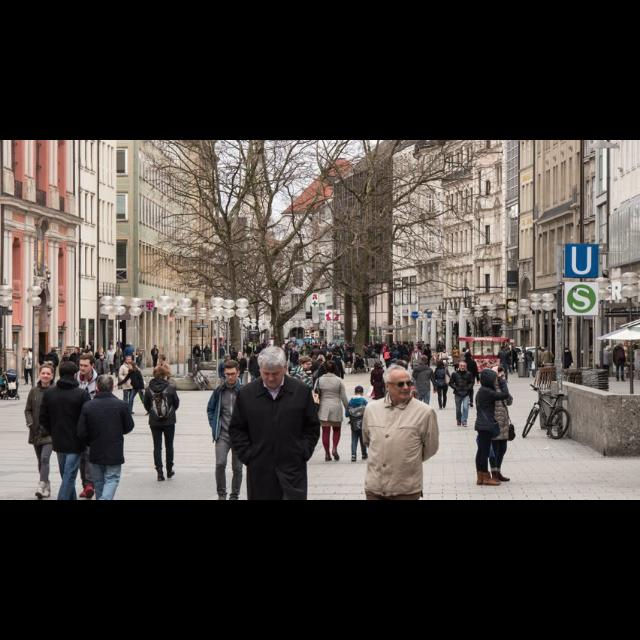head: (258, 347, 288, 391), (383, 366, 412, 402), (95, 376, 115, 396), (223, 364, 240, 386), (490, 367, 508, 387), (60, 362, 78, 382), (38, 366, 56, 384), (80, 356, 96, 376), (484, 372, 498, 390), (299, 356, 313, 372), (154, 366, 168, 382), (217, 344, 226, 368), (326, 362, 338, 376), (355, 387, 365, 398), (458, 362, 468, 372), (465, 352, 473, 362), (421, 356, 429, 366), (129, 362, 137, 372), (159, 354, 167, 364), (126, 358, 134, 367), (438, 361, 446, 369), (374, 362, 381, 370), (225, 355, 232, 363), (606, 345, 612, 353), (100, 353, 106, 361), (254, 351, 260, 359), (74, 348, 82, 354), (616, 344, 622, 350), (502, 346, 508, 352), (486, 348, 492, 354), (230, 348, 236, 354), (238, 352, 244, 358), (98, 348, 104, 354), (546, 346, 550, 352), (512, 346, 518, 350), (454, 346, 458, 352), (51, 350, 57, 354), (28, 348, 32, 354), (314, 346, 320, 350), (348, 354, 352, 360), (566, 348, 570, 352), (538, 348, 542, 352), (463, 349, 467, 353), (197, 344, 201, 348), (292, 349, 296, 353), (154, 346, 158, 350), (126, 344, 130, 348), (110, 346, 114, 350), (427, 346, 431, 350), (415, 350, 419, 354), (394, 348, 398, 352), (255, 343, 258, 347), (520, 352, 522, 356), (306, 348, 310, 350), (440, 341, 442, 345), (386, 344, 388, 348), (206, 346, 208, 348), (264, 342, 266, 344), (378, 342, 380, 344)
person: (64, 354, 108, 500), (143, 364, 181, 484), (474, 369, 511, 487), (312, 361, 350, 464), (486, 365, 516, 483), (344, 386, 374, 464), (289, 356, 315, 444), (113, 361, 153, 417), (449, 360, 475, 428), (410, 355, 438, 417), (118, 356, 142, 414), (460, 352, 480, 408), (432, 361, 452, 411), (370, 362, 388, 408), (218, 354, 235, 400), (154, 353, 172, 393), (94, 352, 110, 396), (612, 343, 628, 383), (69, 346, 85, 386), (249, 350, 265, 388), (23, 348, 37, 388), (46, 348, 60, 386), (234, 349, 248, 386), (94, 346, 108, 382), (105, 343, 118, 381), (601, 344, 613, 382), (496, 346, 509, 380), (540, 348, 554, 377), (562, 347, 574, 379), (459, 347, 471, 379), (508, 344, 520, 374), (288, 346, 300, 376), (310, 344, 322, 374), (450, 346, 462, 374), (123, 342, 135, 370), (532, 347, 544, 373), (483, 348, 495, 374), (517, 350, 527, 380), (411, 349, 422, 373), (192, 343, 202, 369), (228, 347, 238, 373), (150, 344, 160, 370), (202, 344, 212, 368), (390, 348, 400, 372), (374, 340, 384, 364), (422, 346, 432, 368), (217, 344, 226, 368), (302, 345, 310, 371), (344, 353, 354, 371), (252, 342, 260, 362), (436, 340, 444, 360), (382, 343, 390, 361), (260, 339, 268, 356)
